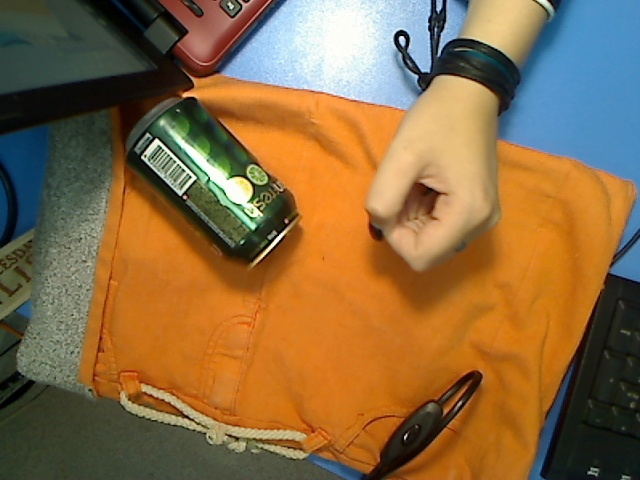can: (122, 96, 303, 272)
